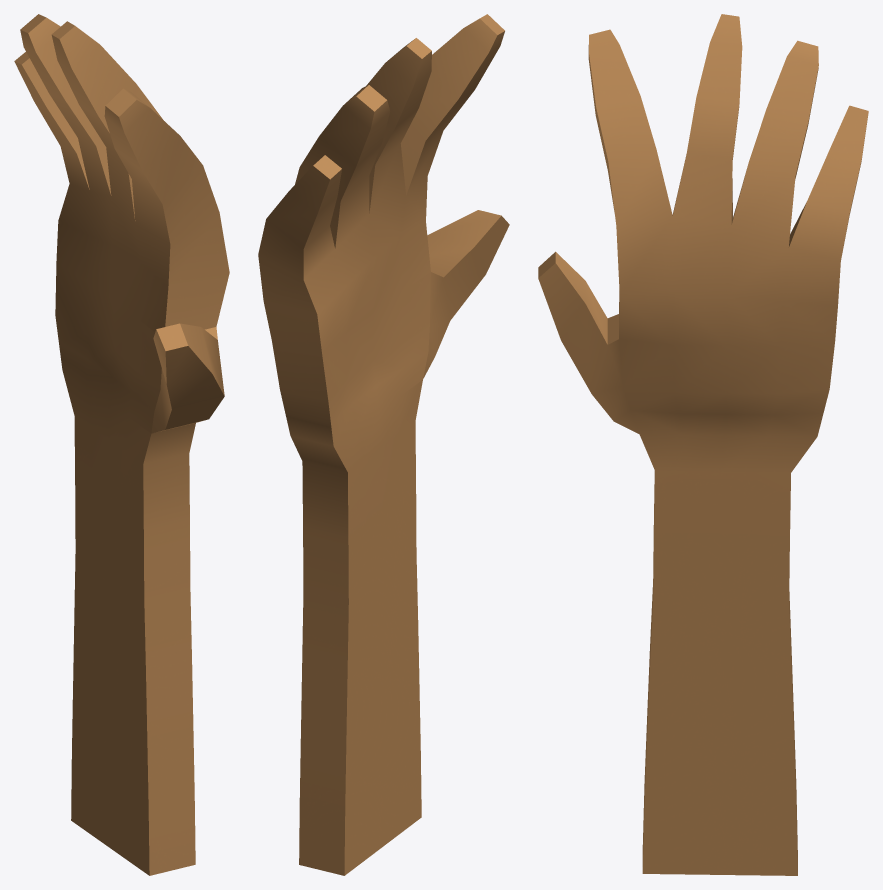
The model's file is hand.fbx.
The picture shows the model from 3 angles, left to right: view 1: azimuth 30°, elevation 25°; view 2: azimuth 150°, elevation 25°; view 3: azimuth 270°, elevation 25°; orthographic projection.
Parts seen in each view (by area): view 1: hand; view 2: hand; view 3: hand.
Part boxes in pixels (x1,y1,x2,y2): hand: (14,14,229,875); hand: (258,14,509,875); hand: (538,14,868,875).
Bounding box in the file's own units: 0.6899 × 4.12 × 1.5.
